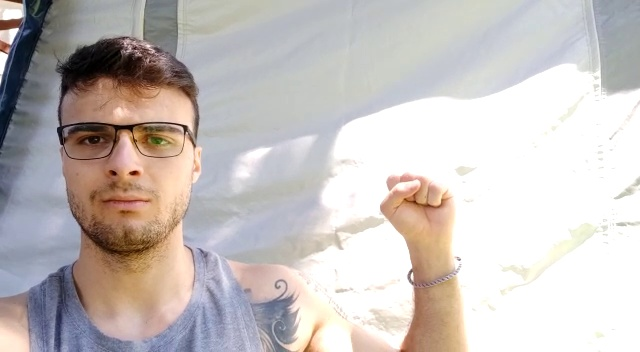Fist: (374, 167, 467, 247)
